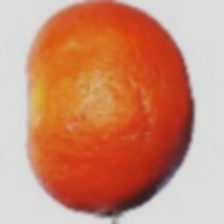tangerine: (25, 14, 224, 177)
